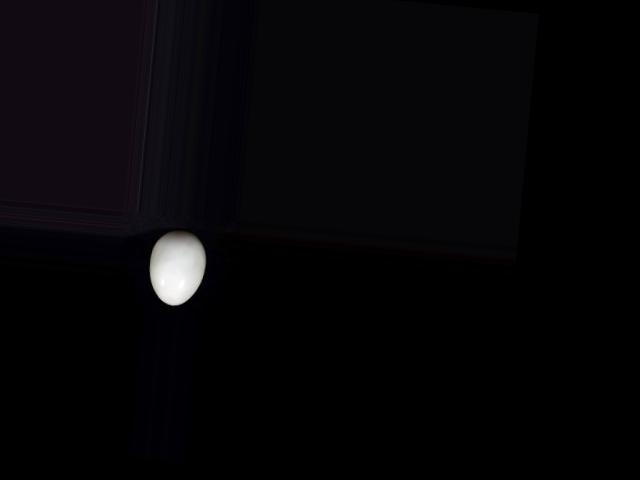egg: (146, 226, 207, 307)
